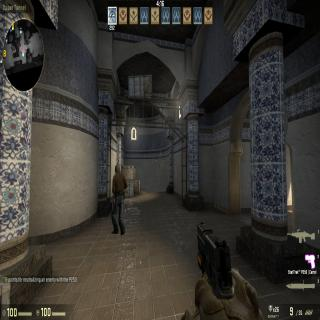T-Body: (111, 162, 126, 234)
T-Head: (114, 163, 120, 174)
